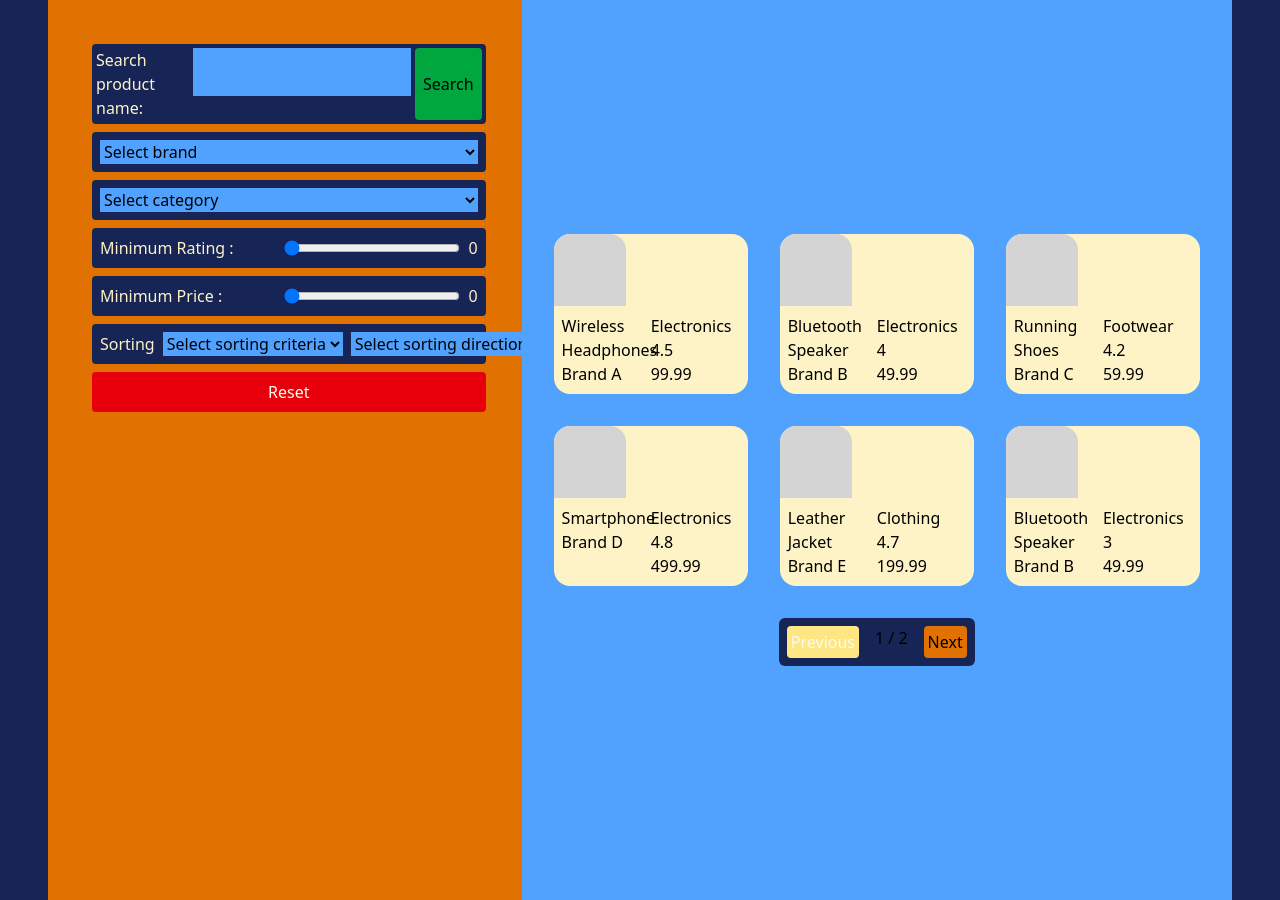
Test case: Table › Pagination
The width and height of the screenshot is (1280, 900).
Expected: the element with test id "filter-bar" is shown, [48,0,522,899]
Expected: the element with test id "pagination-panel" is shown, [779,618,975,666]
Click the button "Next": (945, 642) [924,626,967,658]
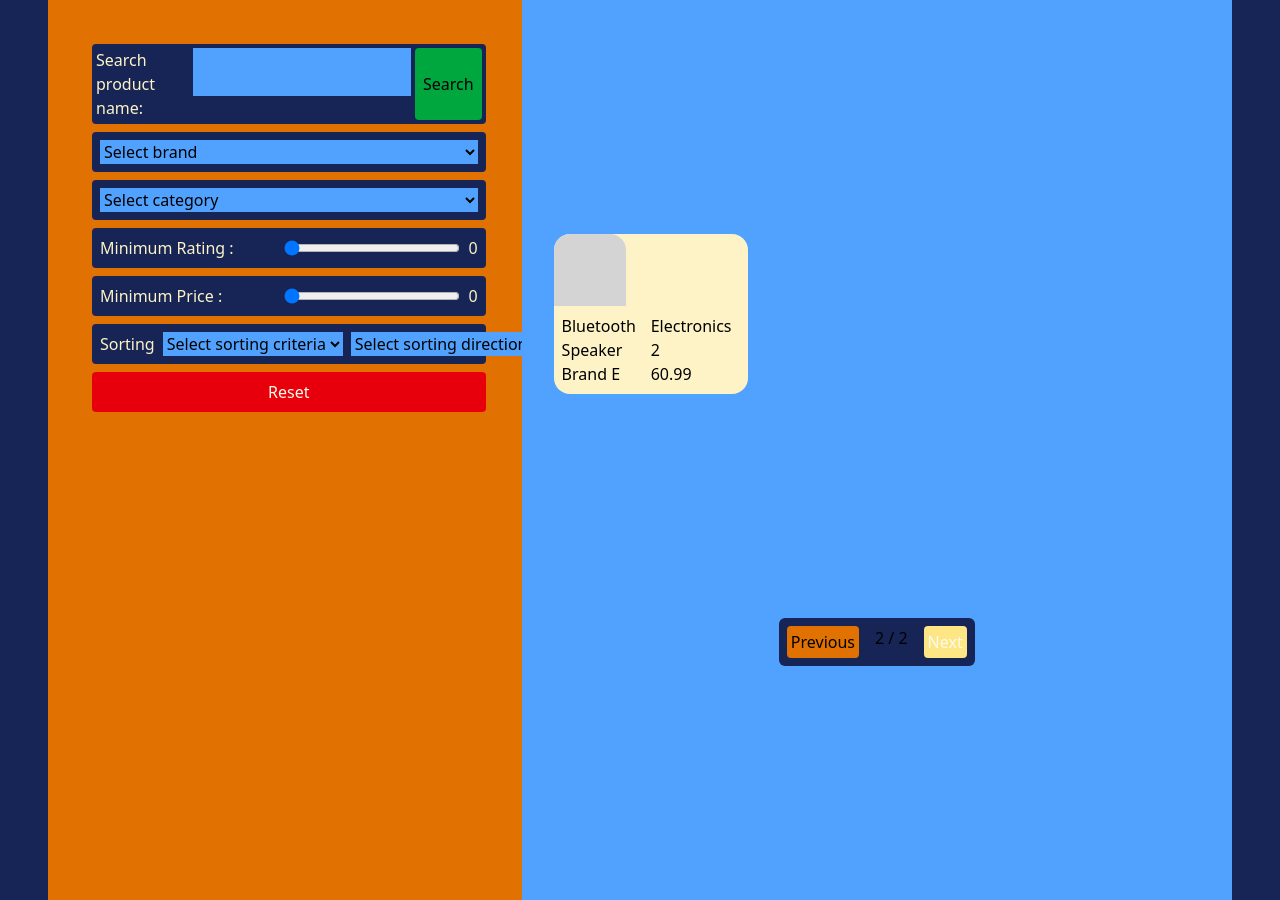
Result: the button "Next" is disabled at [924,626,967,658]
